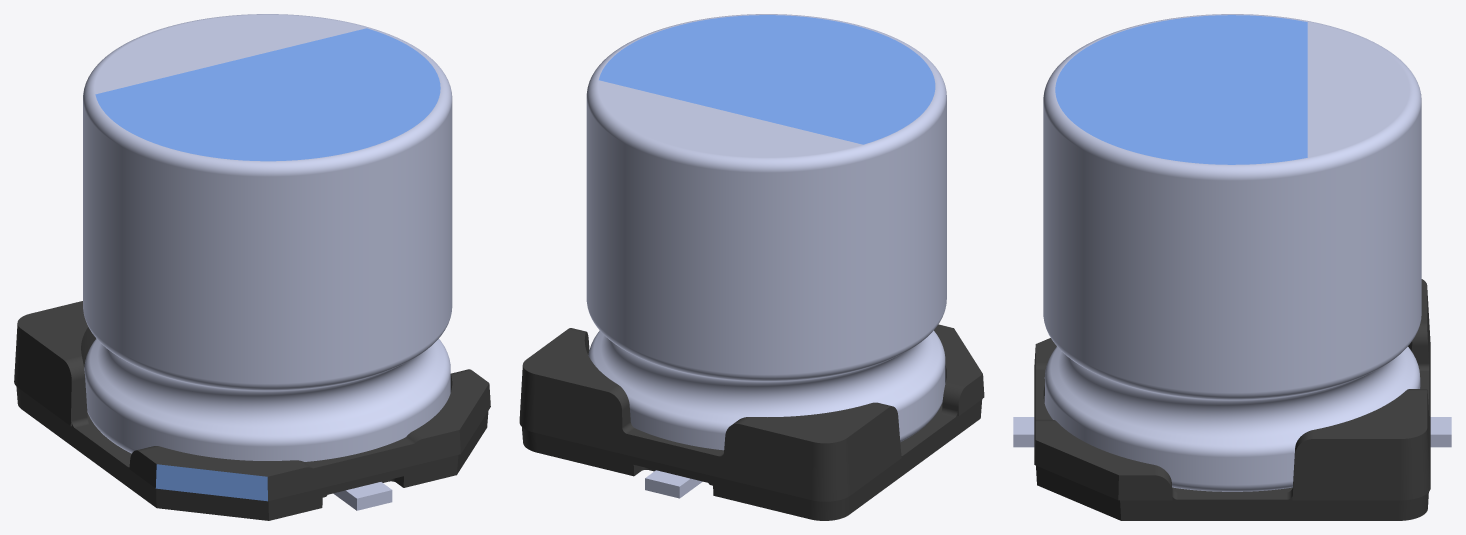
3 views of the same model, side by side, from view 1: azimuth 30°, elevation 25°; view 2: azimuth 150°, elevation 25°; view 3: azimuth 270°, elevation 25° (orthographic). The views are drawn at different scales.
Parts seen in each view (by area): view 1: part; view 2: part; view 3: part.
Part boxes in pixels (<box>): part: <box>14,14,490,520</box>; part: <box>519,14,984,520</box>; part: <box>1013,14,1451,520</box>.
Bounding box in the file's own units: 0.0066 × 0.0064 × 0.0073.
